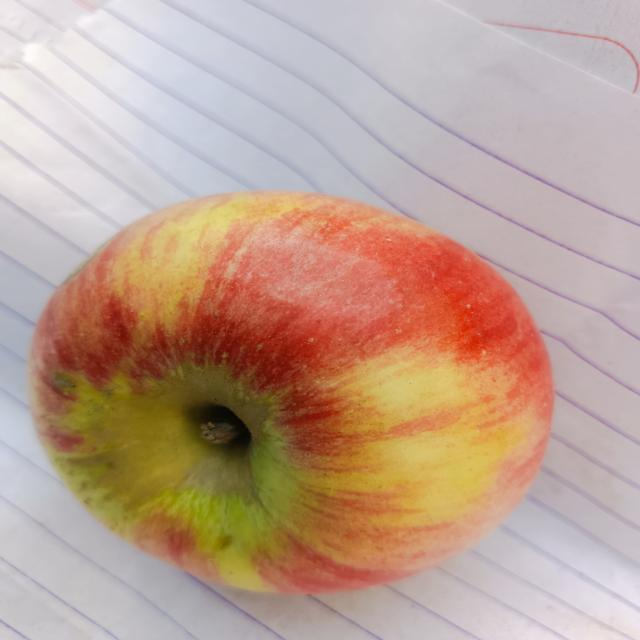Fresh Apple: (37, 198, 535, 594)
